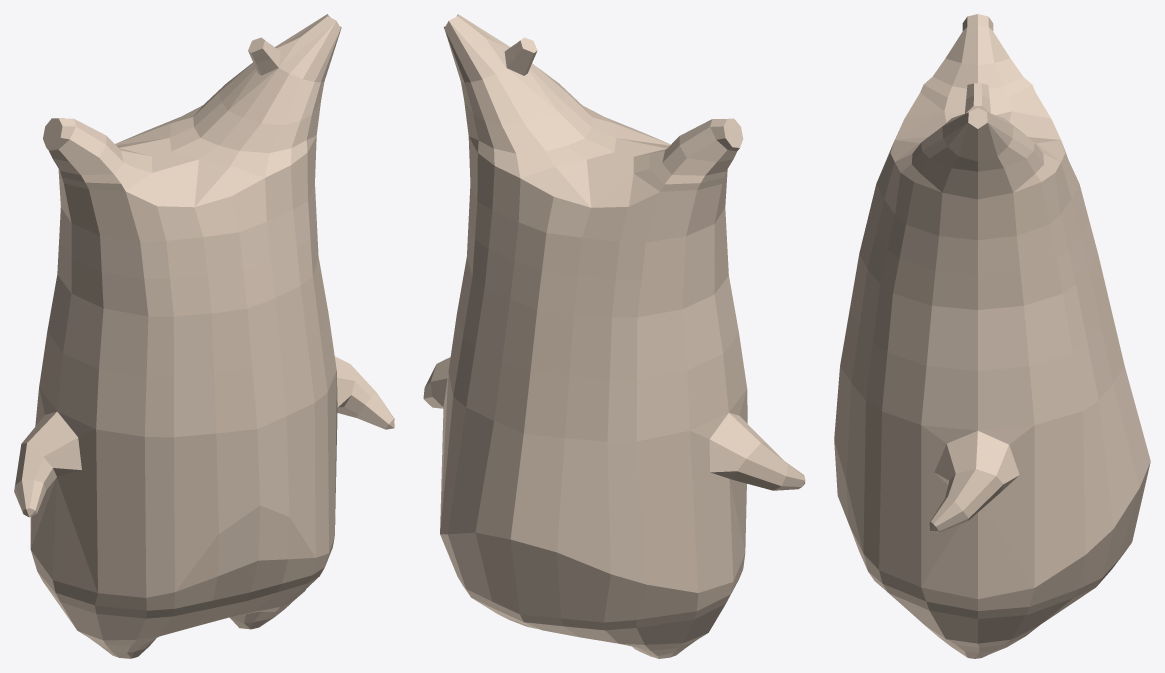
Rendered from frame_0012.obj.
The picture shows the model from 3 angles, left to right: view 1: azimuth 30°, elevation 25°; view 2: azimuth 150°, elevation 25°; view 3: azimuth 270°, elevation 25°; orthographic projection.
Parts seen in each view (by area): view 1: korok; view 2: korok; view 3: korok.
Boxes of the visible parts, x1=… form: korok: x1=14, y1=14, x2=394, y2=658; korok: x1=423, y1=14, x2=805, y2=658; korok: x1=834, y1=14, x2=1150, y2=658.
Size of the model in its own units: 1.44 by 2.19 by 1.07.
